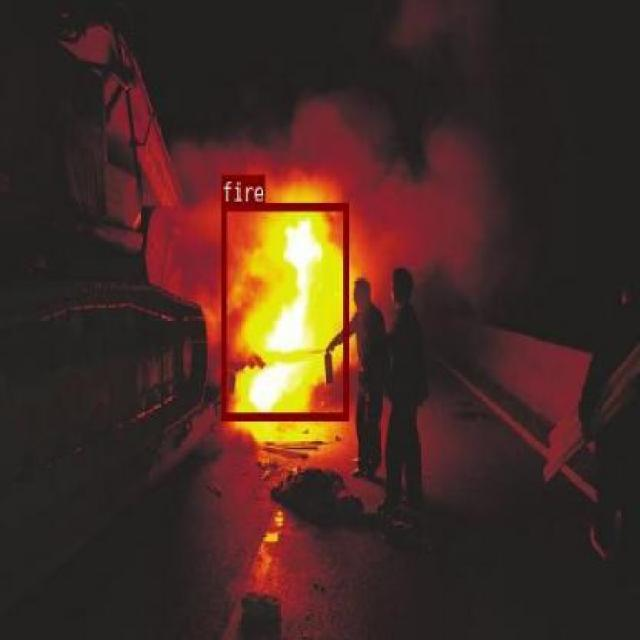fire: (221, 200, 347, 420)
